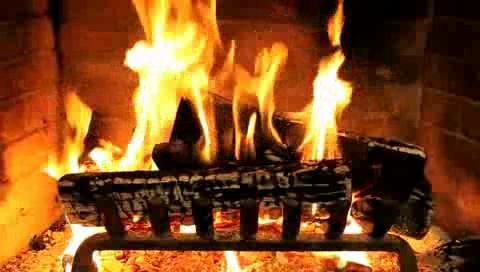fire: (108, 5, 353, 168)
